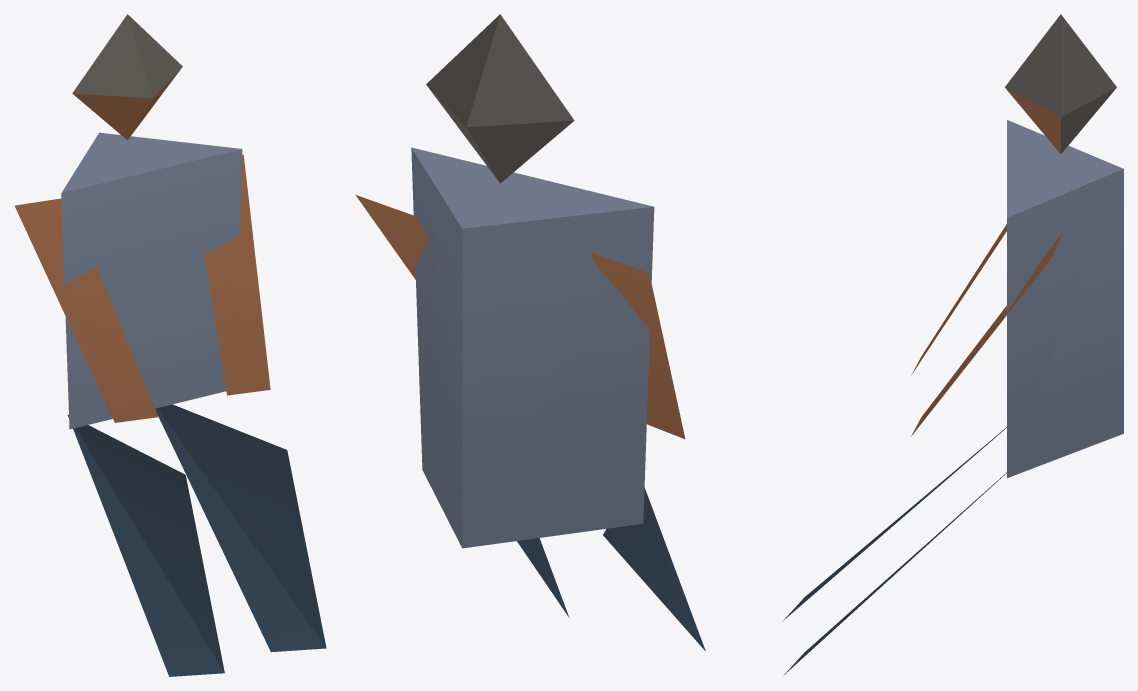
Rendered from fan-12.glb.
3 renders of one model, left to right at view 1: azimuth 30°, elevation 25°; view 2: azimuth 150°, elevation 25°; view 3: azimuth 270°, elevation 25°, orthographic. The views are drawn at different scales.
Visible parts, largest first — view 1: fan-12; view 2: fan-12; view 3: fan-12.
Boxes of the visible parts, <box> form: fan-12: <box>15,14,326,676</box>; fan-12: <box>356,14,705,651</box>; fan-12: <box>782,14,1123,675</box>.
Bounding box in the file's own units: 0.64 × 1.53 × 0.76.
